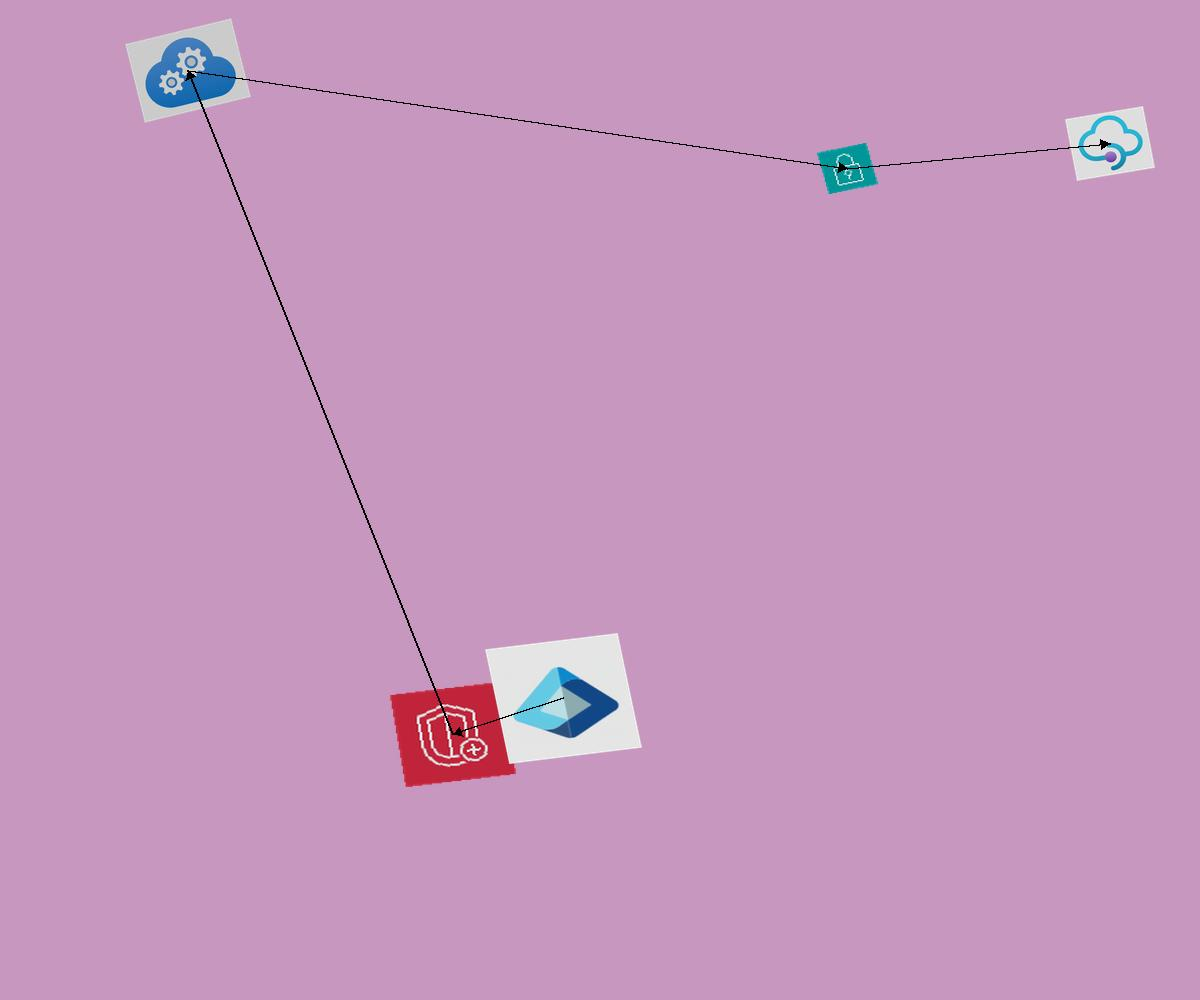AWS-Private-subnet: (816, 142, 879, 195)
AWS-Shield: (389, 681, 517, 788)
Azure_api_gateway: (1065, 106, 1155, 181)
Azure_cloud_services: (125, 18, 251, 123)
Azure_microsoft_entra: (485, 633, 642, 764)
